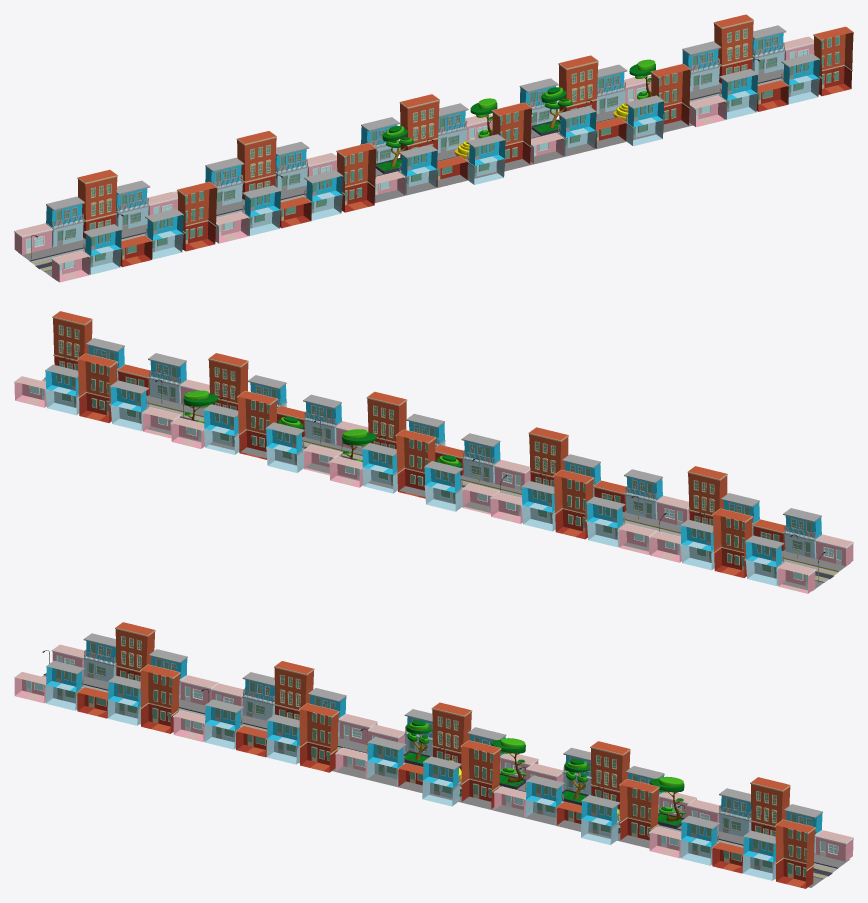
File: calleCorregida.fbx
3 renders of one model, top to bottom at view 1: azimuth 30°, elevation 25°; view 2: azimuth 150°, elevation 25°; view 3: azimuth 330°, elevation 25°, orthographic.
Visible parts, largest first — view 1: terreno012, edifio042, edifio072, edifio052, edifio041, edifio071, edifio051, edifio011, edifio055, edifio062, edifio1, edifio016 (+37 smaller); view 2: terreno012, edifio051, edifio041, edifio071, edifio1, edifio062, edifio052, edifio072, edifio042, edifio011, edifio055, edifio015 (+37 smaller); view 3: terreno012, edifio072, edifio052, edifio042, edifio011, edifio055, edifio1, edifio062, edifio051, edifio041, edifio071, edifio016 (+37 smaller).
Boxes of the visible parts, x1,y1,x2,y2 form: terreno012: [18, 69, 818, 280]; edifio042: [177, 181, 217, 251]; edifio072: [813, 26, 853, 96]; edifio052: [336, 143, 376, 212]; edifio041: [77, 169, 117, 238]; edifio071: [713, 14, 753, 83]; edifio051: [236, 131, 276, 199]; edifio011: [491, 102, 532, 163]; edifio055: [650, 63, 691, 125]; edifio062: [558, 55, 598, 119]; edifio1: [399, 94, 439, 157]; edifio016: [467, 134, 505, 184]; terreno012: [41, 377, 850, 590]; edifio051: [553, 470, 593, 539]; edifio041: [712, 508, 752, 577]; edifio071: [77, 353, 117, 422]; edifio1: [395, 429, 436, 498]; edifio062: [237, 391, 277, 459]; edifio052: [528, 427, 568, 486]; edifio072: [52, 311, 92, 370]; edifio042: [687, 466, 727, 525]; edifio011: [366, 391, 407, 449]; edifio055: [208, 353, 248, 410]; edifio015: [424, 461, 463, 511]; terreno012: [42, 673, 849, 887]; edifio072: [775, 819, 815, 888]; edifio052: [299, 703, 339, 772]; edifio042: [140, 664, 180, 733]; edifio011: [460, 740, 501, 808]; edifio055: [619, 779, 659, 840]; edifio1: [431, 702, 472, 770]; edifio062: [590, 741, 630, 809]; edifio051: [274, 661, 314, 720]; edifio041: [115, 622, 155, 681]; edifio071: [750, 777, 790, 836]; edifio016: [422, 756, 461, 806].
Bounding box in the file's own units: 16005 × 1143 × 1807.
